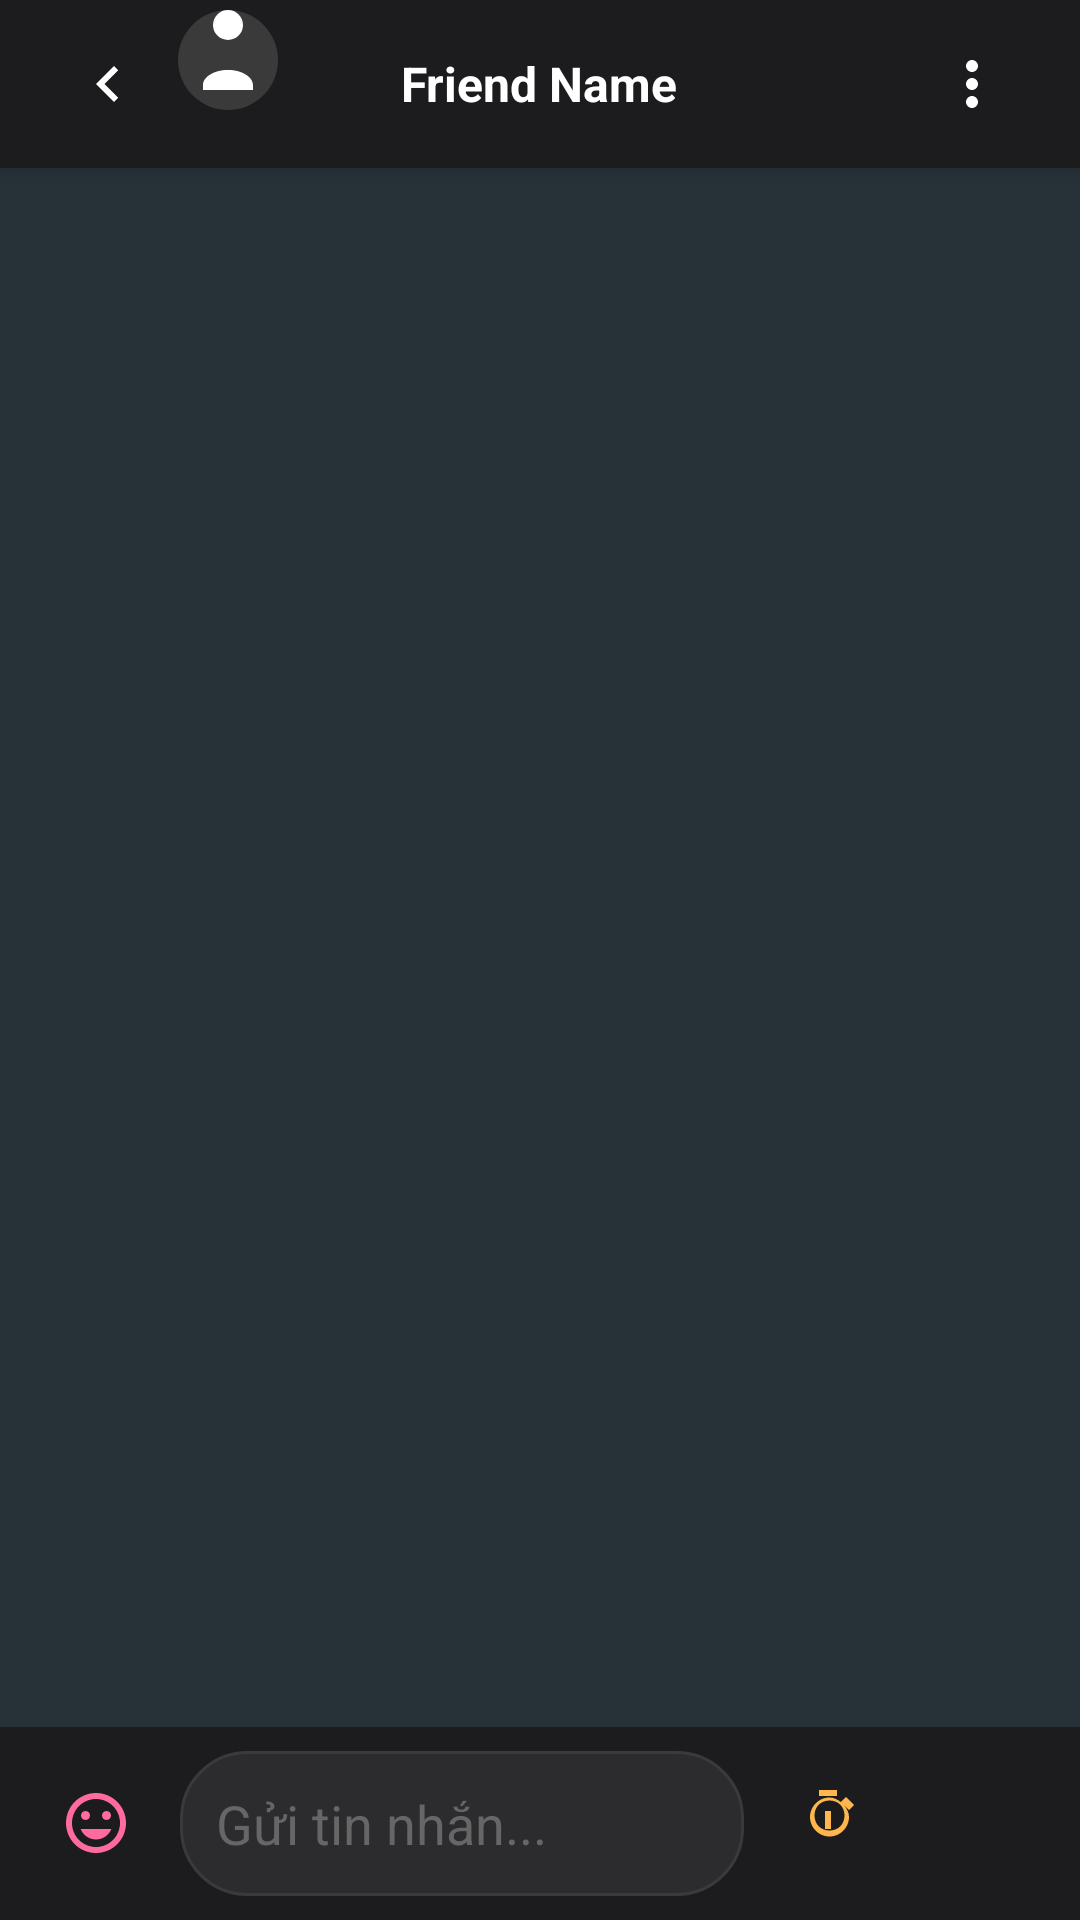

Named icons in this screenshot (1080*1920) and their bounding boxes, [x1=x1, y1=y1, x2=x2, y2=y2]:
Back: [x1=96, y1=66, x2=118, y2=102]
Menu: [x1=966, y1=60, x2=978, y2=108]
person circle: [x1=178, y1=10, x2=278, y2=110]
Self-destruct: [x1=810, y1=1790, x2=854, y2=1837]
Stickers: [x1=66, y1=1793, x2=126, y2=1853]
